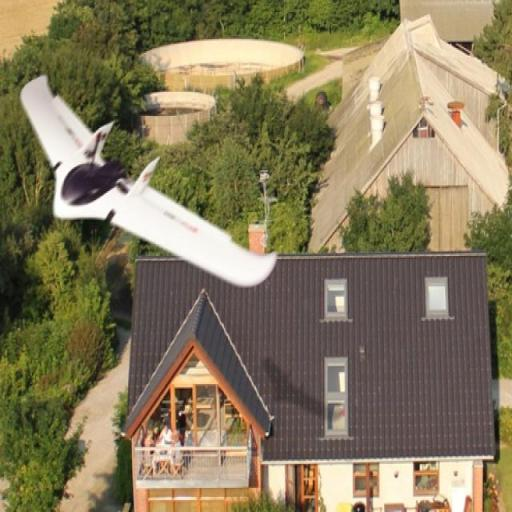uav: (18, 72, 284, 290)
